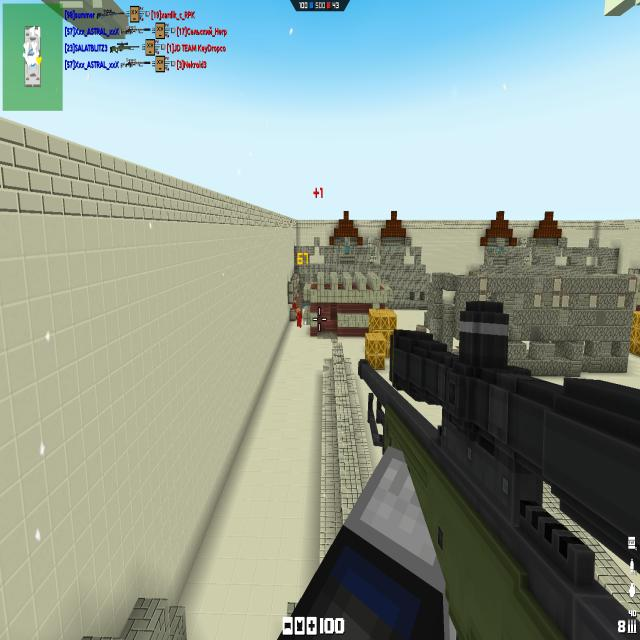player: (296, 308, 302, 328), (293, 299, 296, 310)
